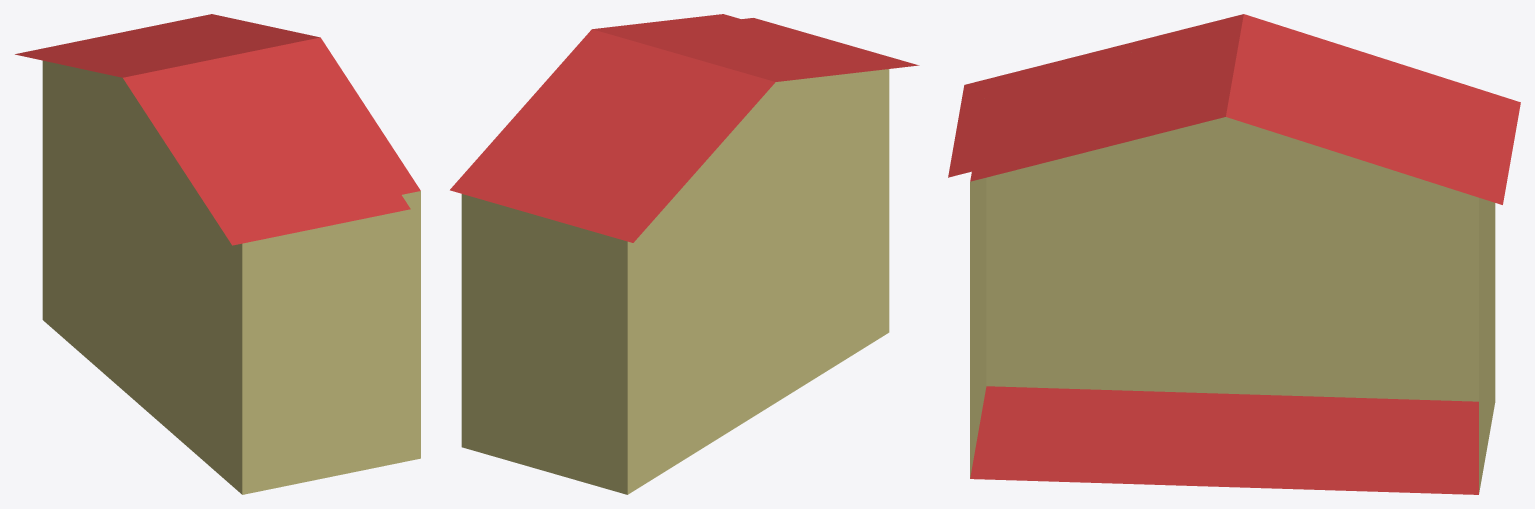
3 views of the same model, side by side, from view 1: azimuth 30°, elevation 25°; view 2: azimuth 150°, elevation 25°; view 3: azimuth 270°, elevation 25° (orthographic). The views are drawn at different scales.
Size of the model in its own units: 5.94 by 11.96 by 8.52.
